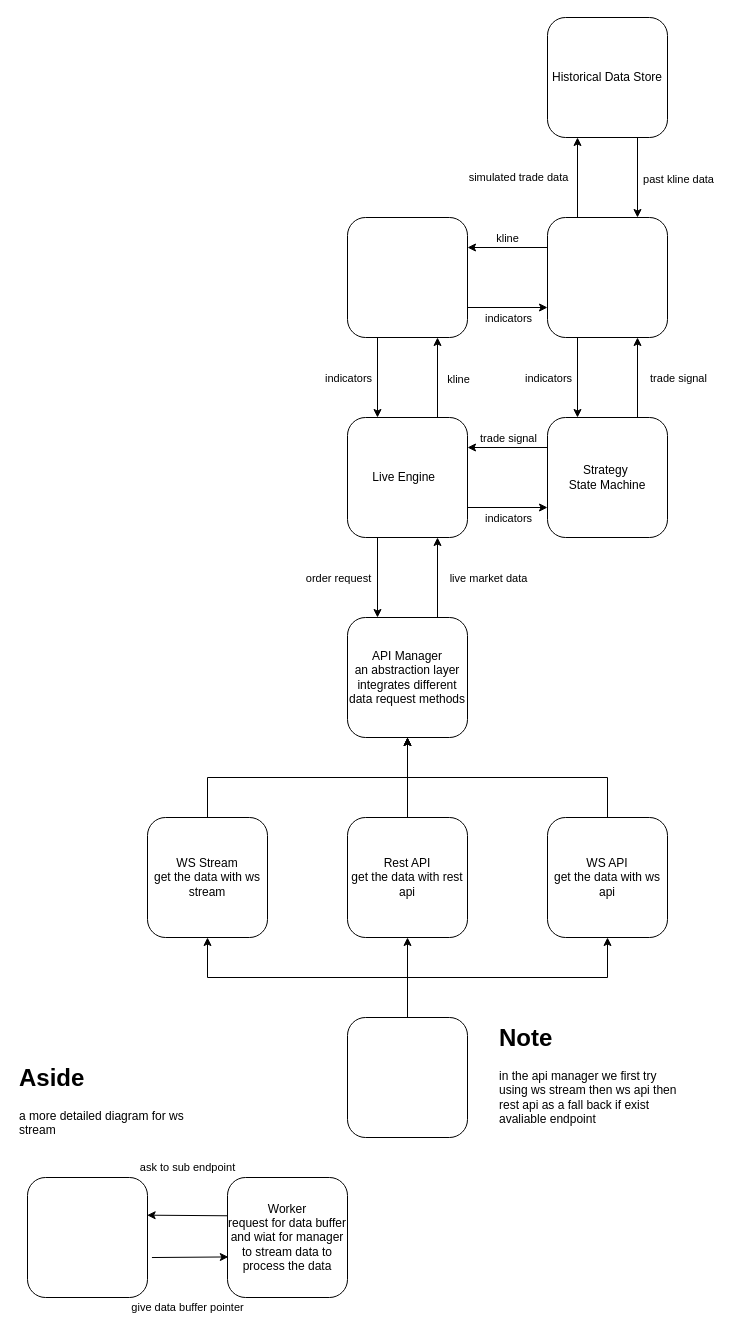
Image size: 730x1332. Some labels were removed from this diagram. The shapes that lost their labels are listed below. From the top down, each one's centre as x and y in pixels, then its label:
At point 407,277: "Signal Processor generates needed indicators".
At point 607,277: "Backtest Engine".
At point 407,1077: "Binance Exchange Server the server provides ws stream, ws api, rest api endpoint".
At point 87,1237: "Manager open connection and wait for request from worker".
